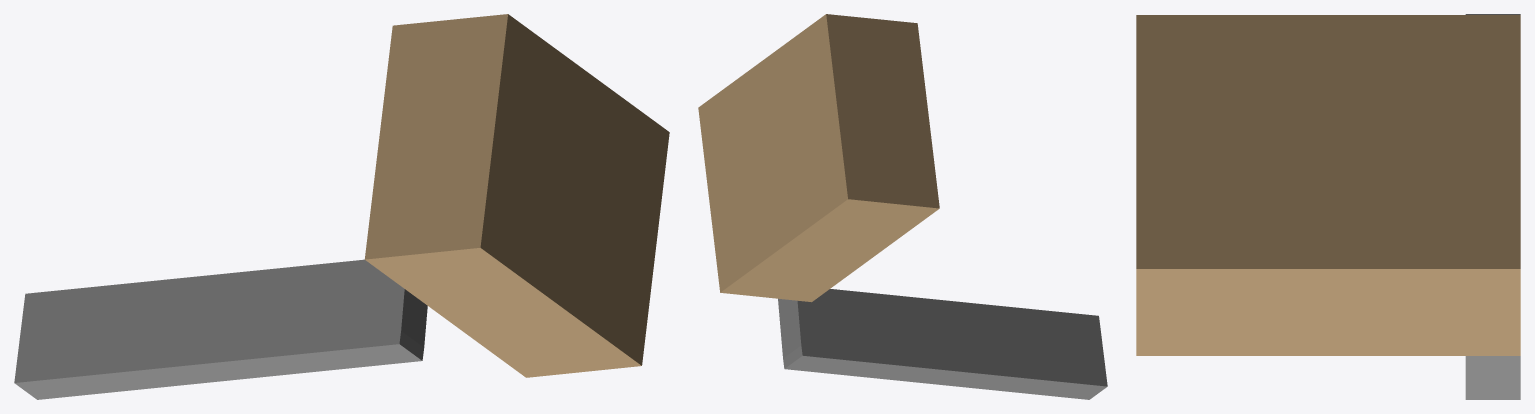
3 views of the same model, side by side, from view 1: azimuth 30°, elevation 25°; view 2: azimuth 150°, elevation 25°; view 3: azimuth 270°, elevation 25° (orthographic). The views are drawn at different scales.
Parts seen in each view (by area): view 1: 0_1_0_0_2_2_2_0_0; view 2: 0_1_0_0_2_2_2_0_0; view 3: 0_1_0_0_2_2_2_0_0.
Boxes of the visible parts, x1,y1,x2,y2 form: 0_1_0_0_2_2_2_0_0: (14, 14, 669, 399); 0_1_0_0_2_2_2_0_0: (698, 14, 1107, 399); 0_1_0_0_2_2_2_0_0: (1136, 14, 1520, 399).
Bounding box in the file's own units: 37.07 × 22.96 × 21.
